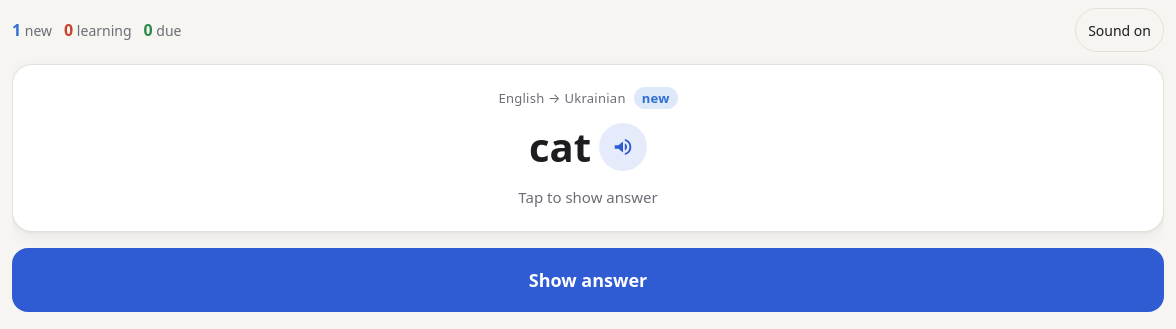
ReviewScreen › can turn sound off, and remembers it
Expected: the text "cat" is shown, [529,123,591,171]
Click the button "Sound on" at (1120, 30), box [1075,8,1164,52]
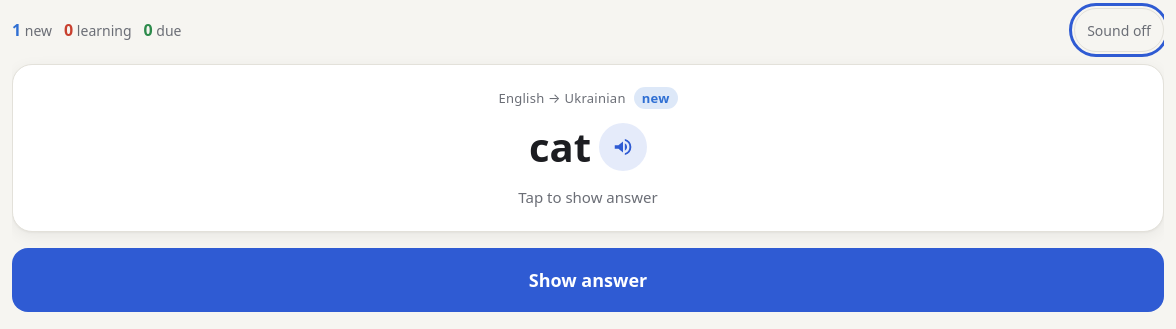
Result: the button "Sound off" is not pressed at [1074,8,1164,52]
